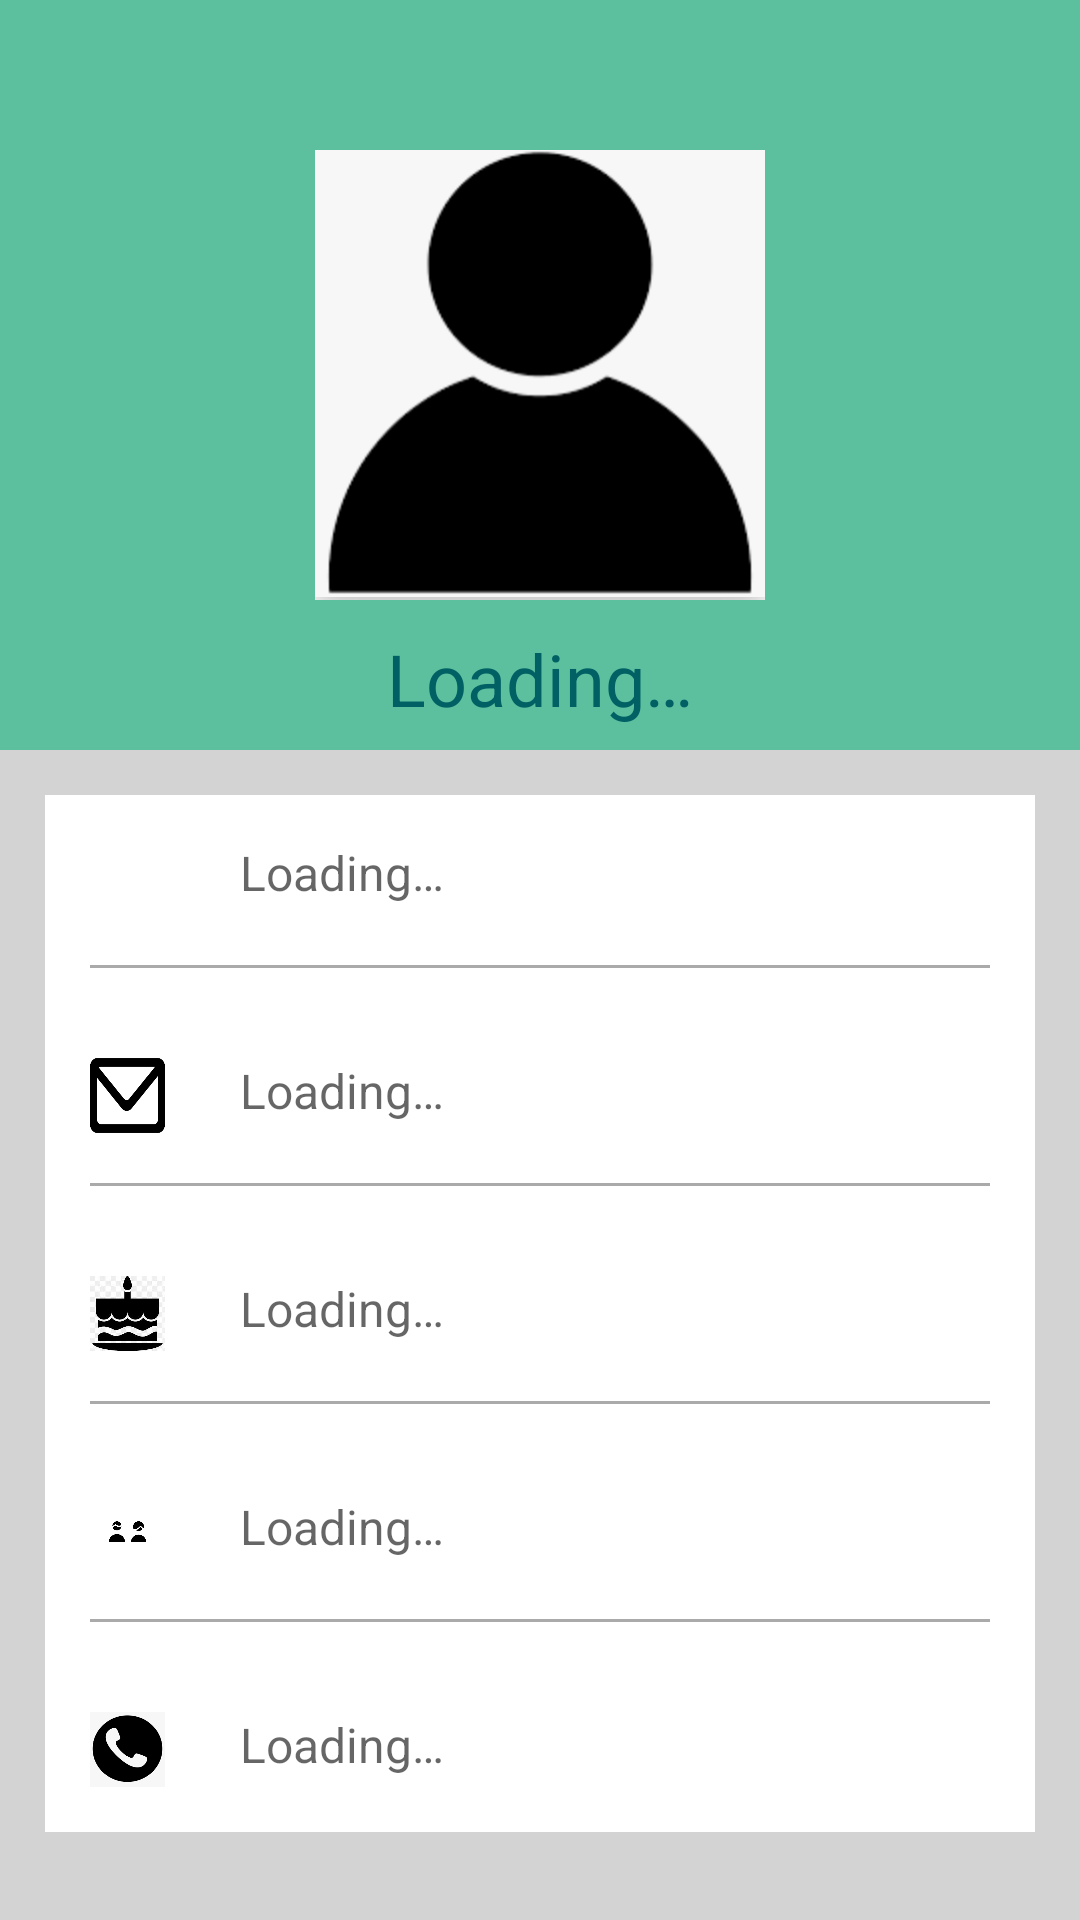

Icons on this 1080px x 1920px Android screen, each with the point to tap as point (x, y):
Date of birth icon: point (127, 1313)
Email icon: point (127, 1095)
Gender icon: point (127, 1531)
Phone number icon: point (127, 1748)
